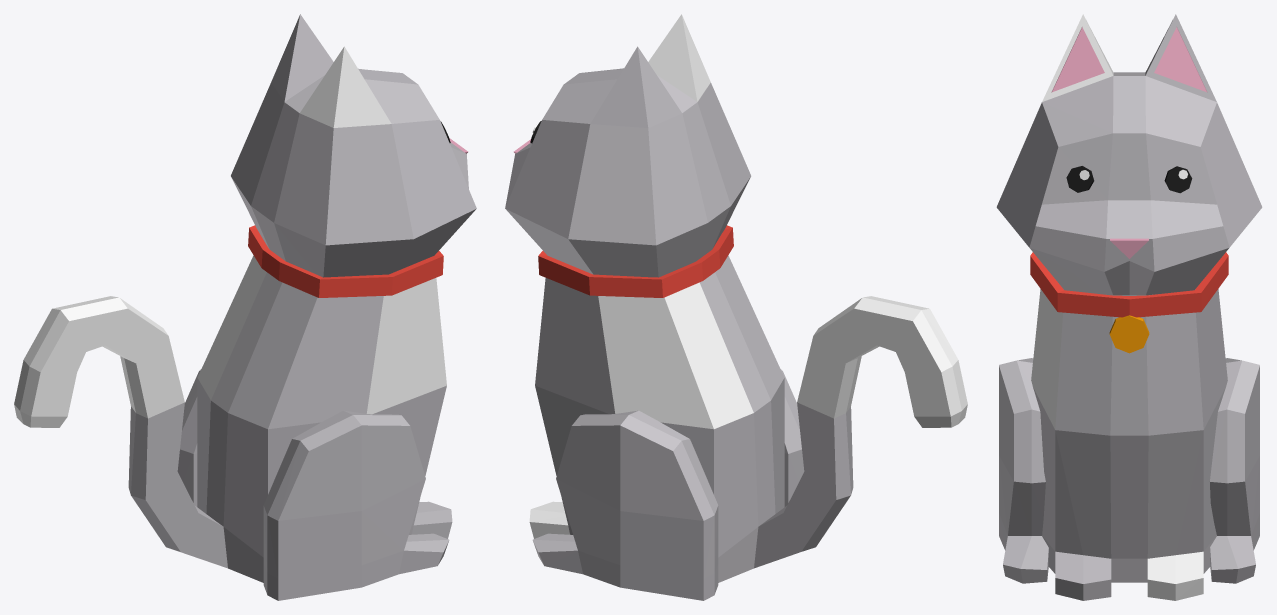
Rendered from cat.glb.
3 views of the same model, side by side, from view 1: azimuth 30°, elevation 25°; view 2: azimuth 150°, elevation 25°; view 3: azimuth 270°, elevation 25° (orthographic). The views are drawn at different scales.
Visible parts, largest first — view 1: node-0; view 2: node-0; view 3: node-0.
Boxes of the visible parts, left/top/right/bottom form: node-0: left=14, top=14, right=476, bottom=600; node-0: left=505, top=14, right=967, bottom=600; node-0: left=996, top=14, right=1262, bottom=600.
Bounding box in the file's own units: 3.42 × 3.78 × 1.71.
